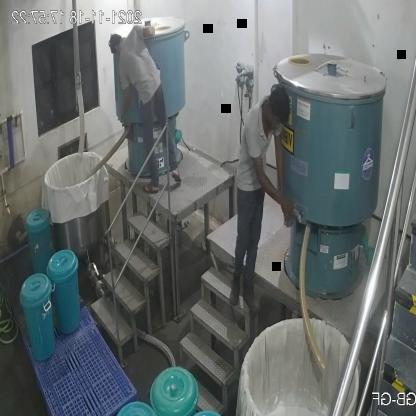no_glove: (251, 150, 286, 228)
no_shoes: (142, 182, 160, 196)
shoes: (228, 275, 242, 309)
